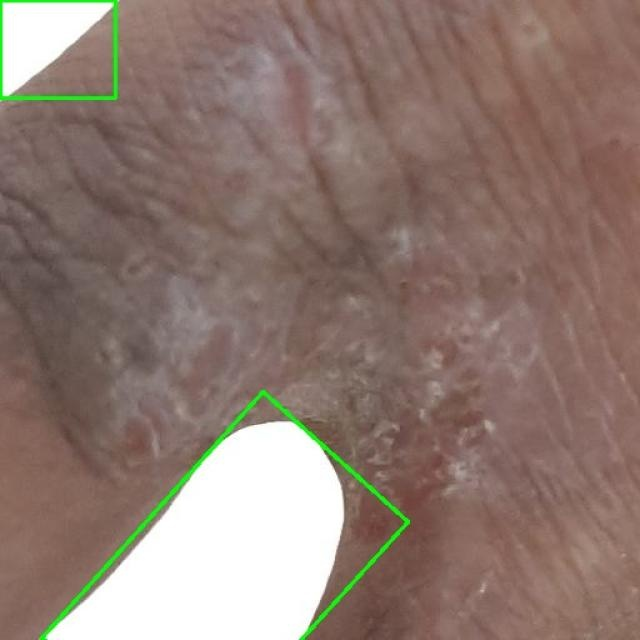Eczema: (41, 392, 408, 640), (0, 0, 115, 98)
